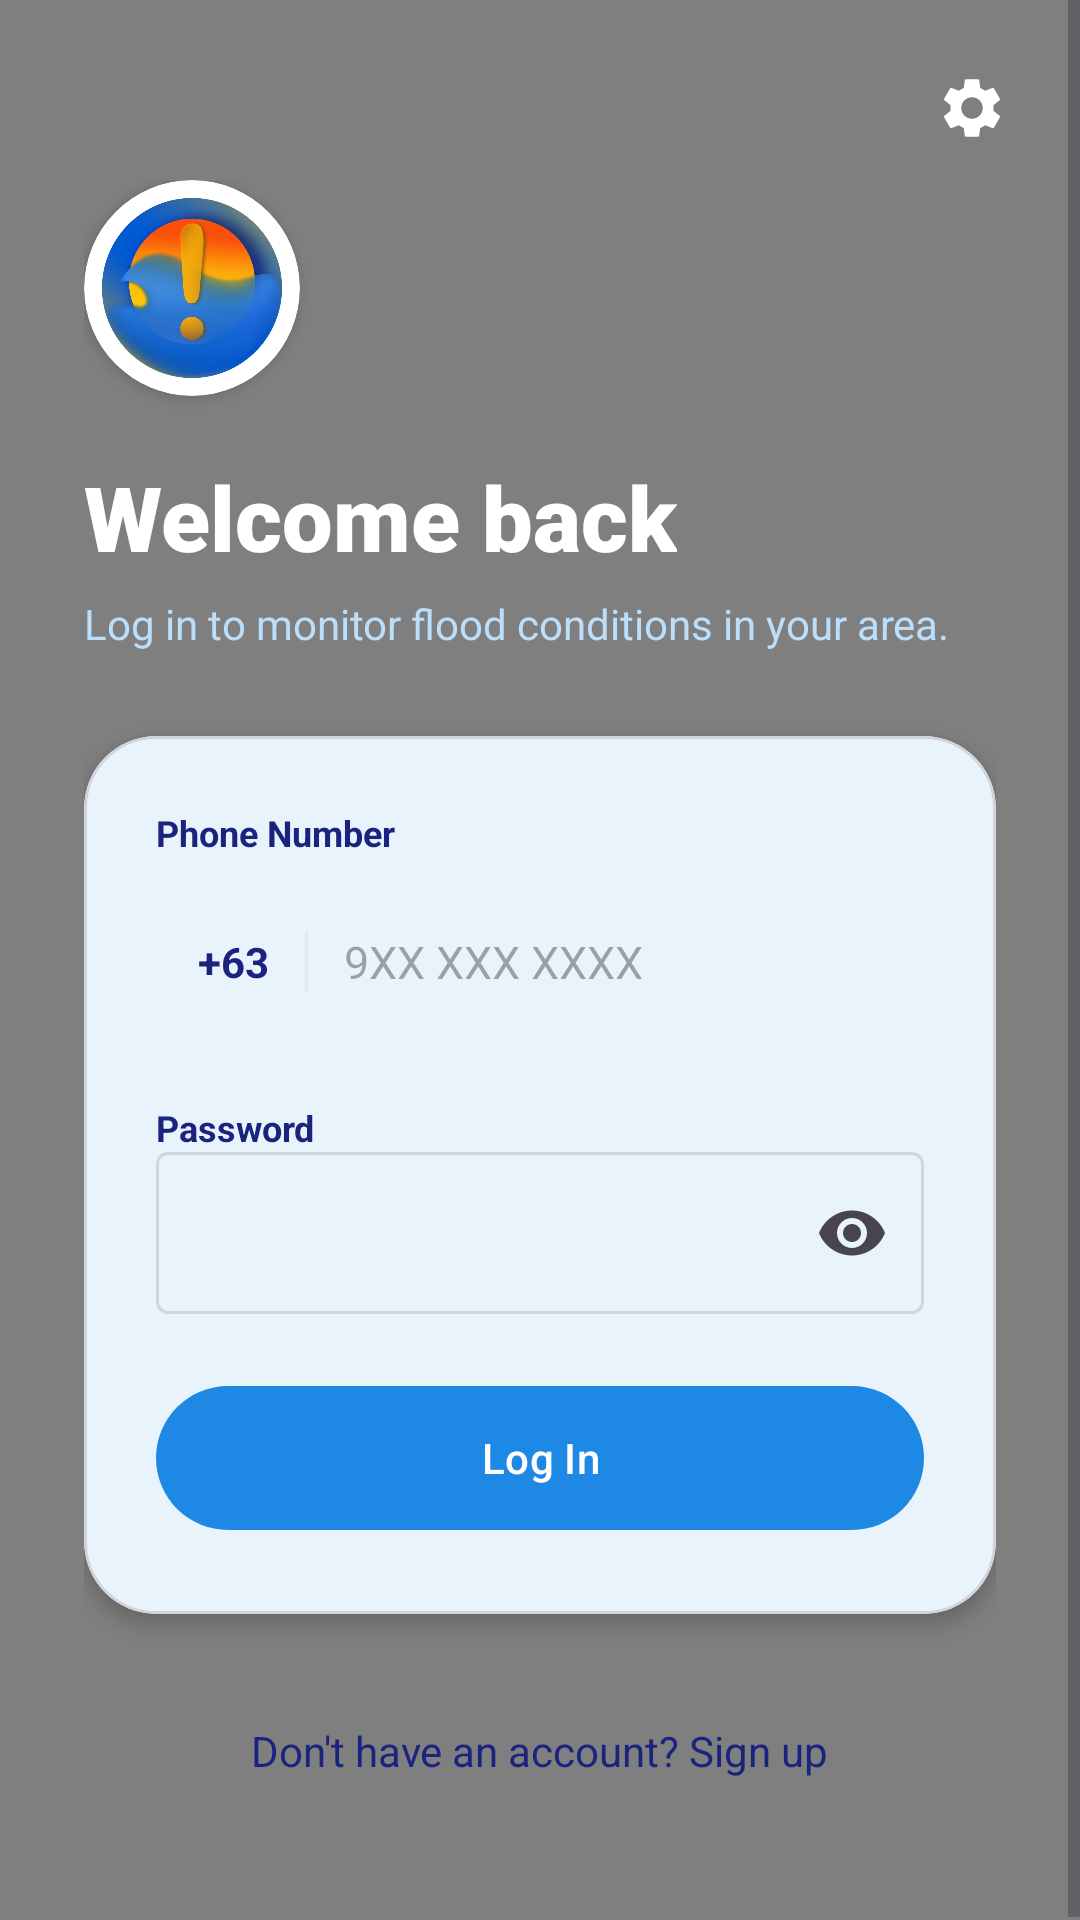

Where to tap for icons on this 1080 × 1920 app screen, as [x,y]:
Settings: [972,108]
